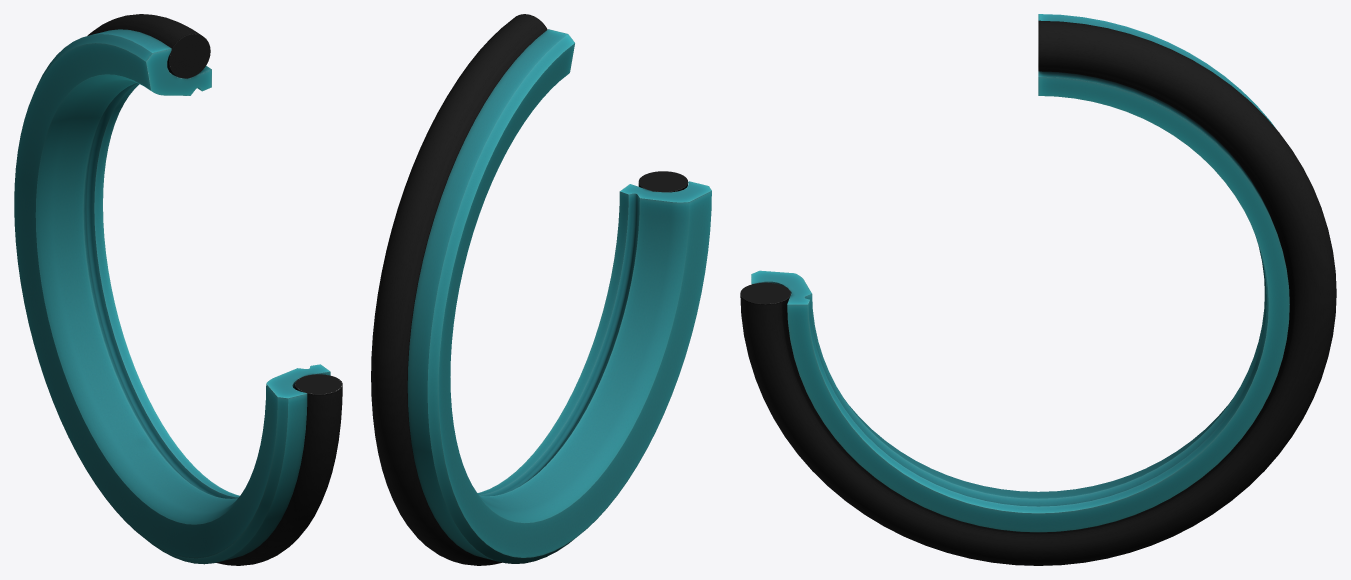
3 views of the same model, side by side, from view 1: azimuth 30°, elevation 25°; view 2: azimuth 150°, elevation 25°; view 3: azimuth 270°, elevation 25° (orthographic). The views are drawn at different scales.
Visible parts, largest first — view 1: Turcon® VL Seal® II_3/4th 1, Turcon® VL Seal® II_3/4th 2; view 2: Turcon® VL Seal® II_3/4th 1, Turcon® VL Seal® II_3/4th 2; view 3: Turcon® VL Seal® II_3/4th 2, Turcon® VL Seal® II_3/4th 1.
Boxes of the visible parts, x1,y1,x2,y2 form: Turcon® VL Seal® II_3/4th 1: [14, 29, 330, 564]; Turcon® VL Seal® II_3/4th 2: [87, 14, 342, 565]; Turcon® VL Seal® II_3/4th 1: [407, 29, 711, 563]; Turcon® VL Seal® II_3/4th 2: [371, 14, 688, 565]; Turcon® VL Seal® II_3/4th 2: [740, 20, 1336, 565]; Turcon® VL Seal® II_3/4th 1: [751, 14, 1289, 532].
Size of what is drawn, in the model's own units: 0.0534 by 0.3958 by 0.3958.
Materials: 2 (2 with a texture image).
